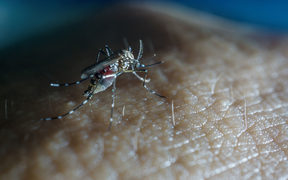dengue_mosquito: (37, 40, 160, 120)
